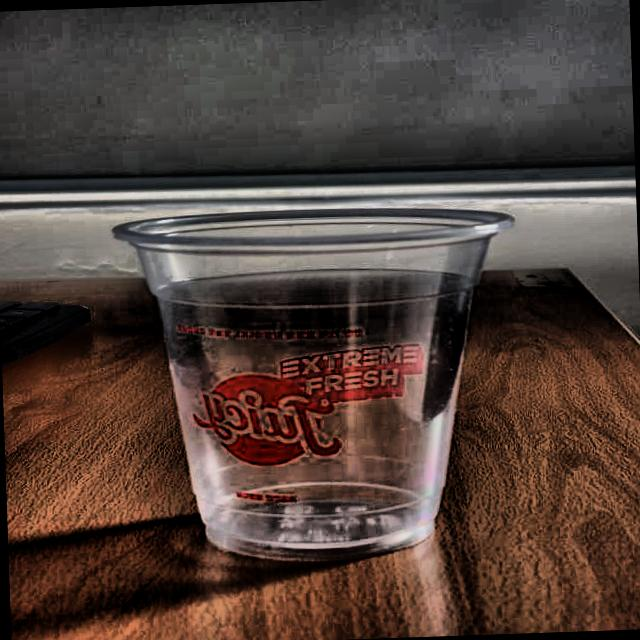plastic cup: (101, 199, 528, 568)
